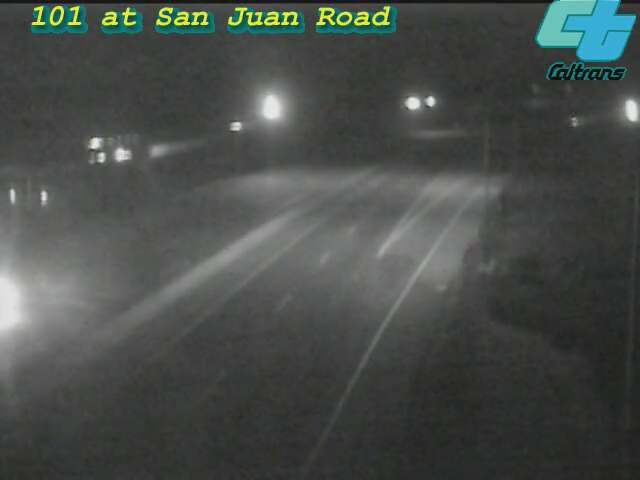vehicle: (1, 268, 42, 348), (606, 86, 640, 136)
